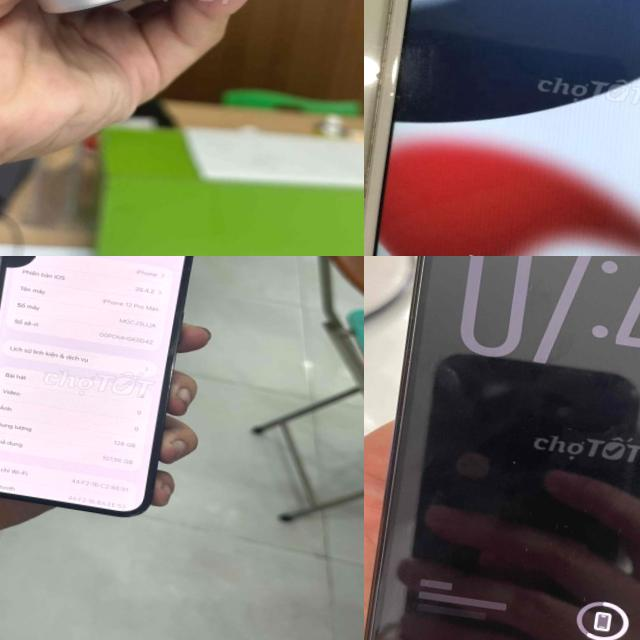screen_defect: (0, 256, 53, 290)
